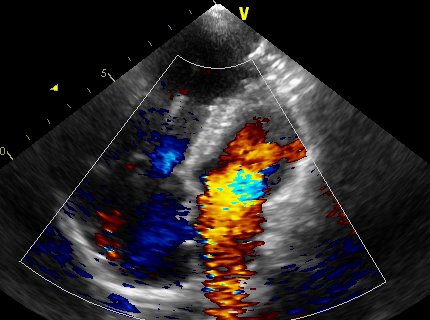TR: (119, 145, 188, 221)
